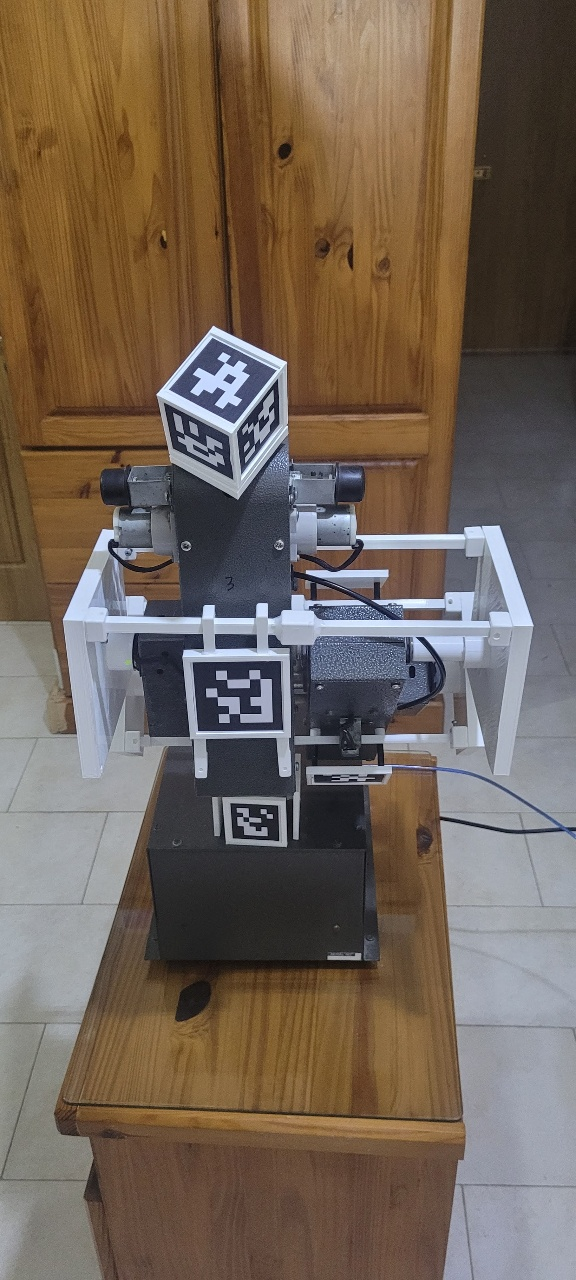Robot: (55, 205, 465, 805)
